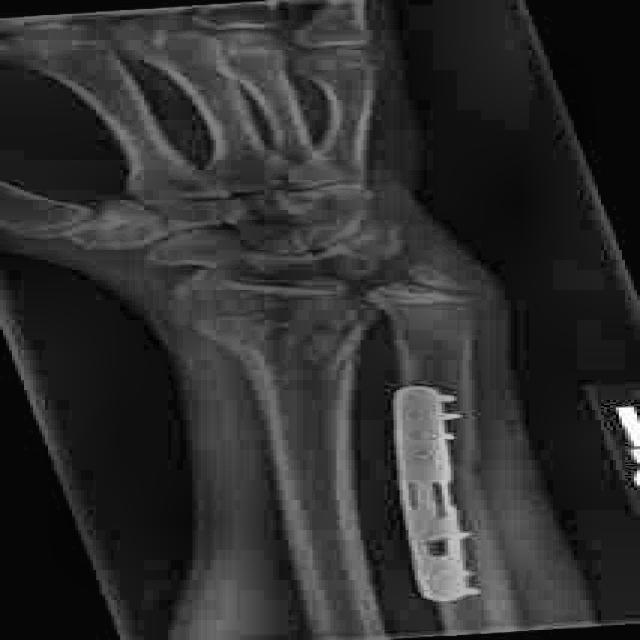fingers positive: (140, 244, 526, 330)
